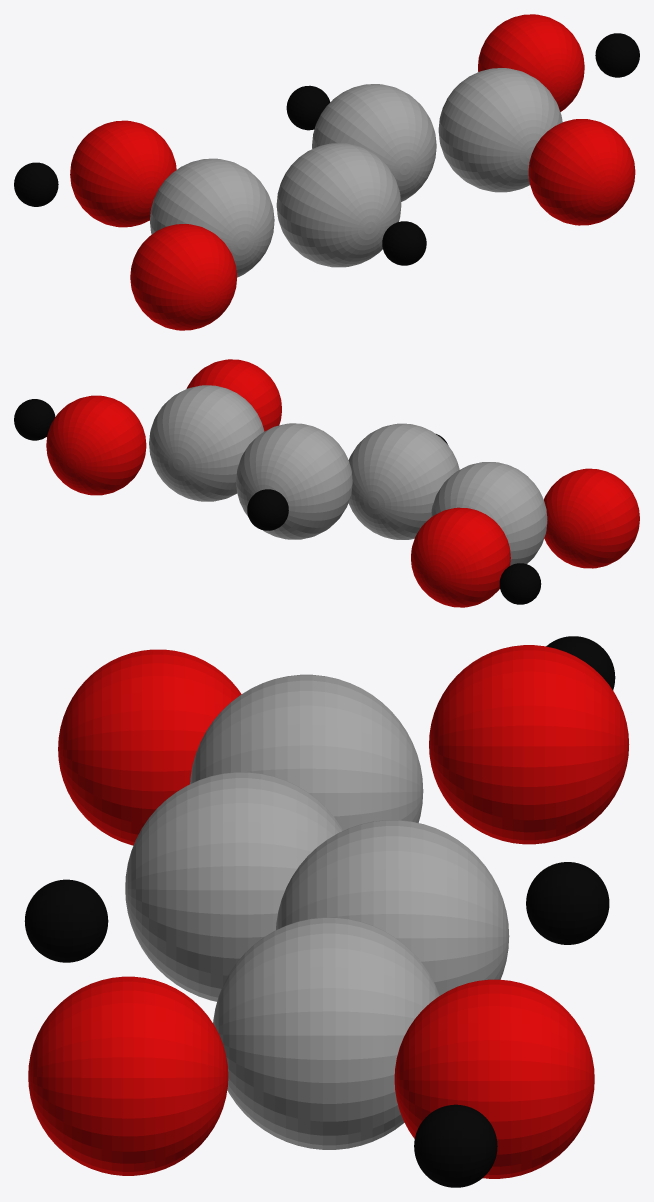
The model's file is Fumaric Acid.glb.
3 renders of one model, top to bottom at view 1: azimuth 30°, elevation 25°; view 2: azimuth 150°, elevation 25°; view 3: azimuth 270°, elevation 25°, orthographic. The views are drawn at different scales.
Visible parts, largest first — view 1: world; view 2: world; view 3: world.
Part boxes in pixels (left/top/right/bottom): world: left=14, top=14, right=639, bottom=330; world: left=14, top=359, right=639, bottom=607; world: left=24, top=636, right=629, bottom=1187.
Size of the model in its own units: 7.63 by 1.65 by 3.62.
